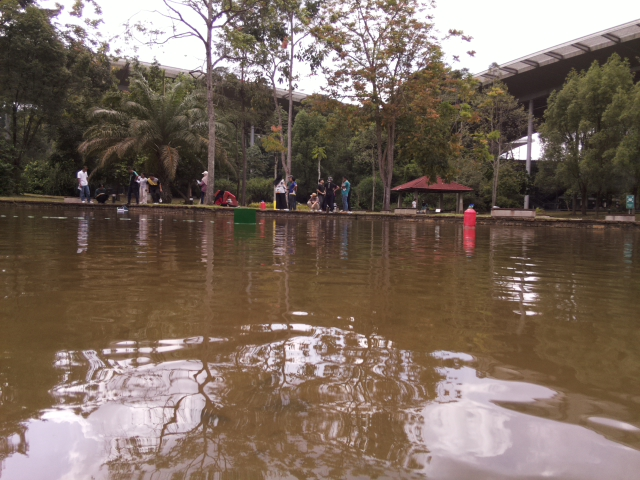obstacle: (232, 207, 259, 224)
